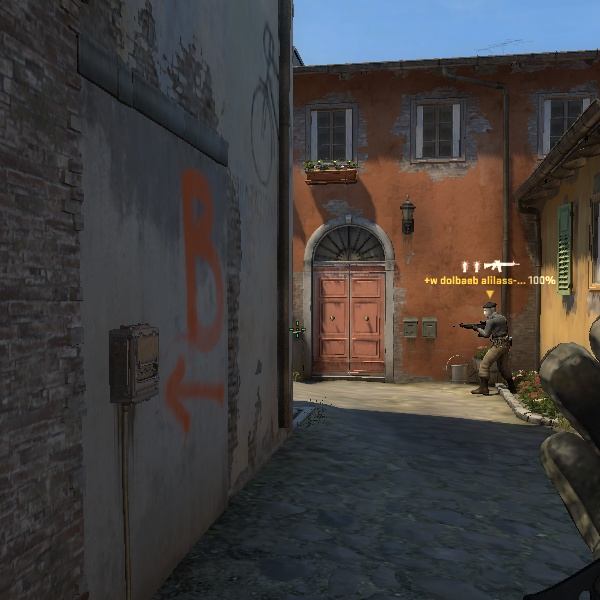t_body: (471, 301, 516, 395)
t_head: (482, 302, 497, 319)
